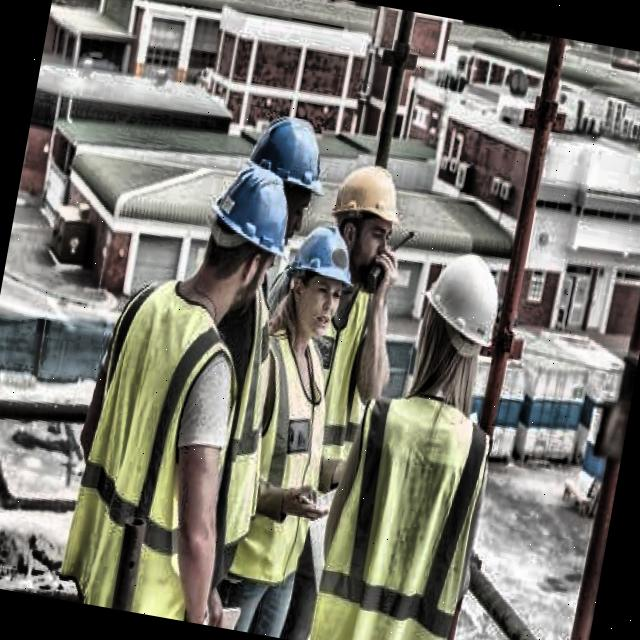helmet: (200, 120, 316, 310), (405, 240, 515, 403), (268, 212, 366, 351), (316, 154, 414, 286), (244, 110, 337, 227)
